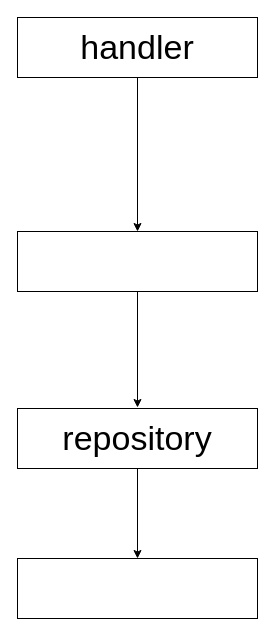
This 275x636 diagram has some shape labels left out. Each missing label, with the centre of its shape:
"entity" belongs at (x=137, y=588).
"usecase" belongs at (x=137, y=261).
